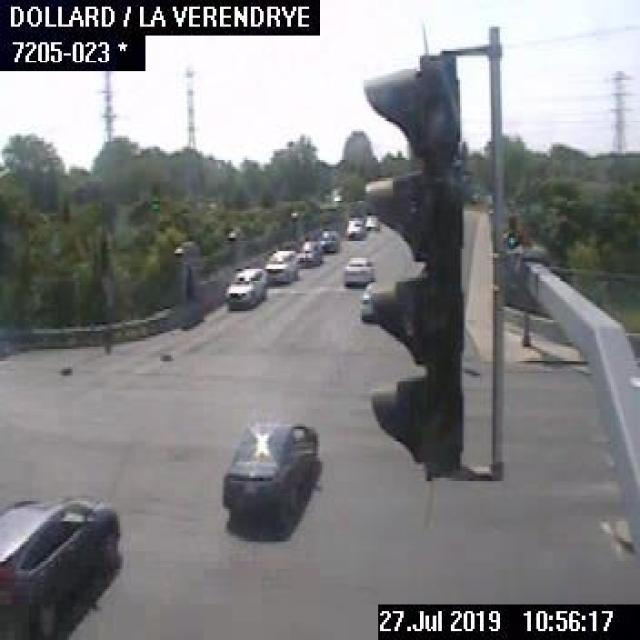vehicle: (0, 493, 120, 638), (218, 416, 316, 518), (222, 264, 266, 308), (262, 245, 300, 288), (340, 255, 376, 289), (296, 239, 325, 269), (319, 228, 339, 255), (344, 213, 363, 238), (363, 210, 378, 232)
